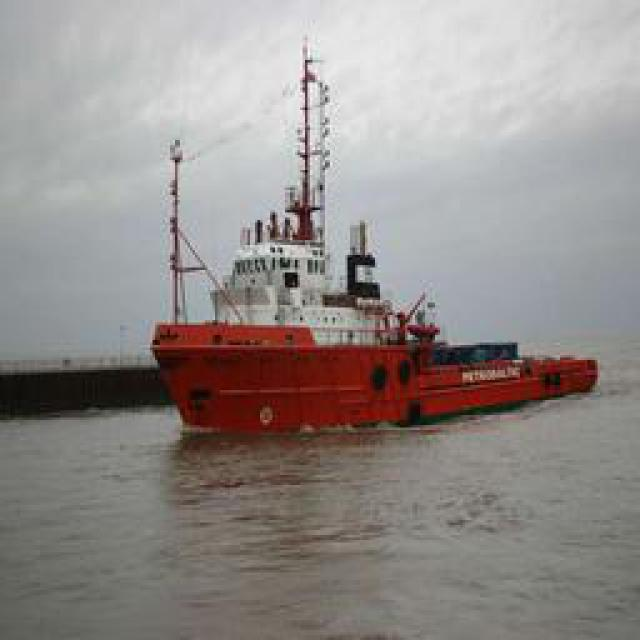Ship: (154, 22, 567, 425)
